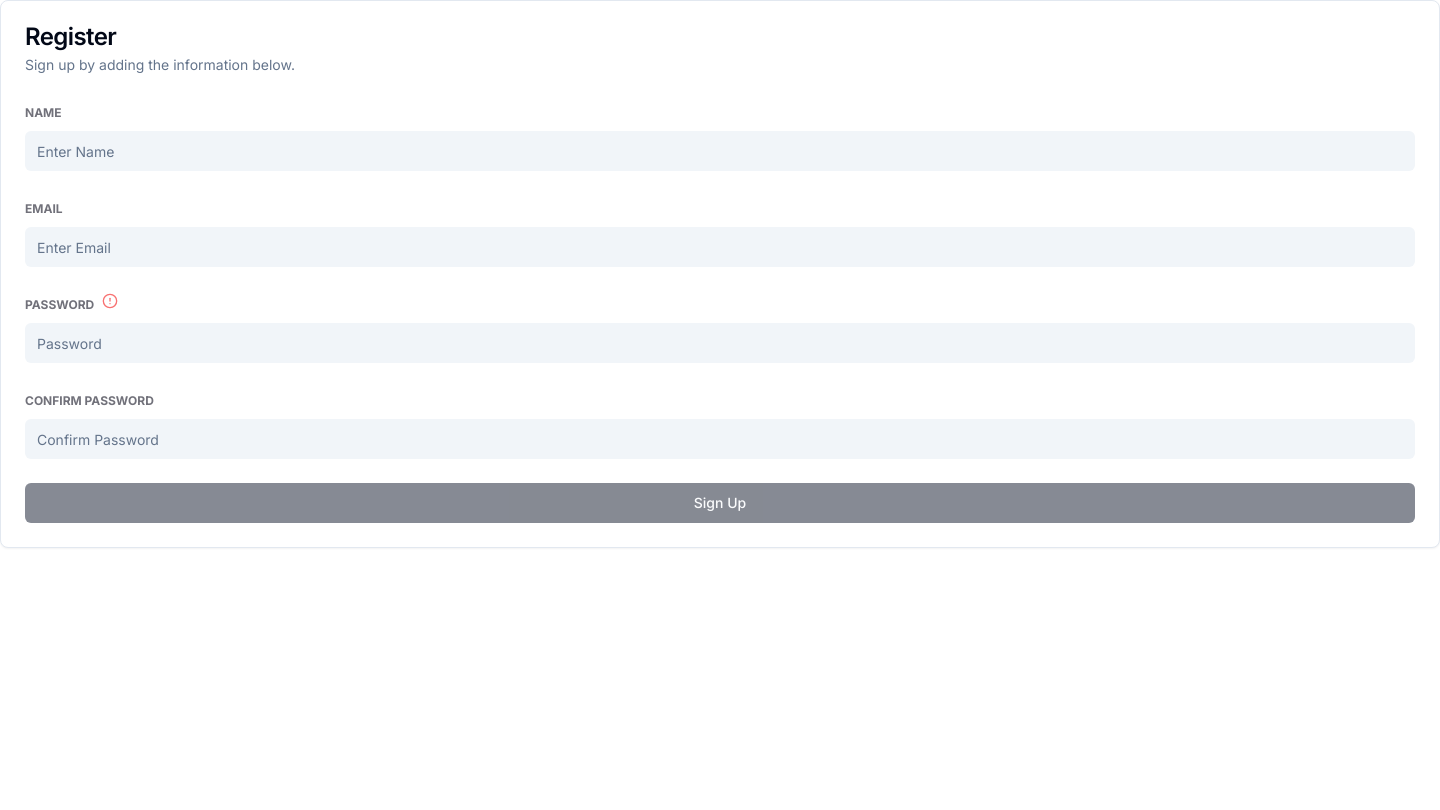
it: <RegisterForm /> › with invalid inputs › when "Confirm password" does not match "Password" › should display an error message
Type "fake@email" into the field labelled "Email" at coordinates (720, 247), box [25, 227, 1415, 267]
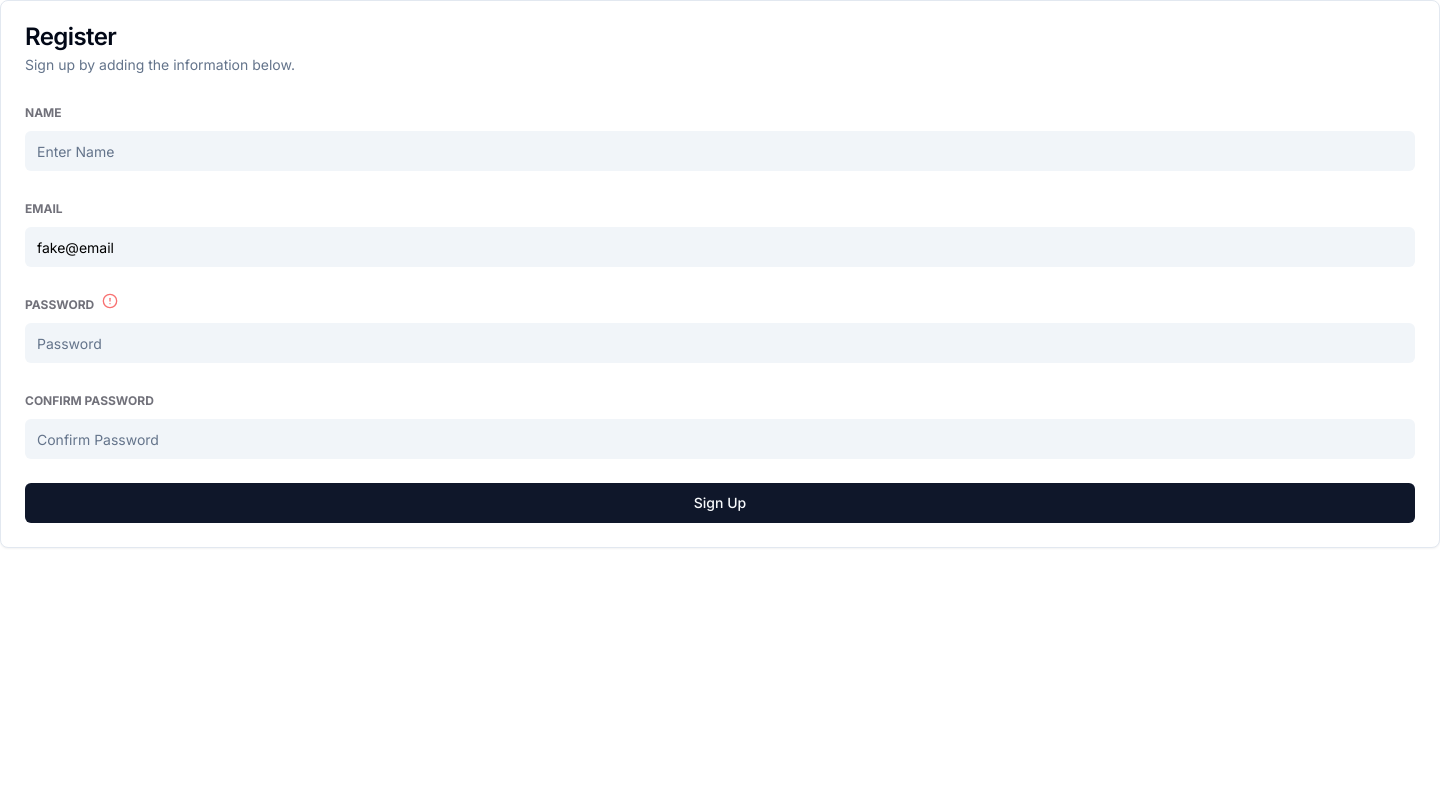
Type "abc123" into the password field with placeholder "Confirm Password" at coordinates (720, 439), box [25, 419, 1415, 459]
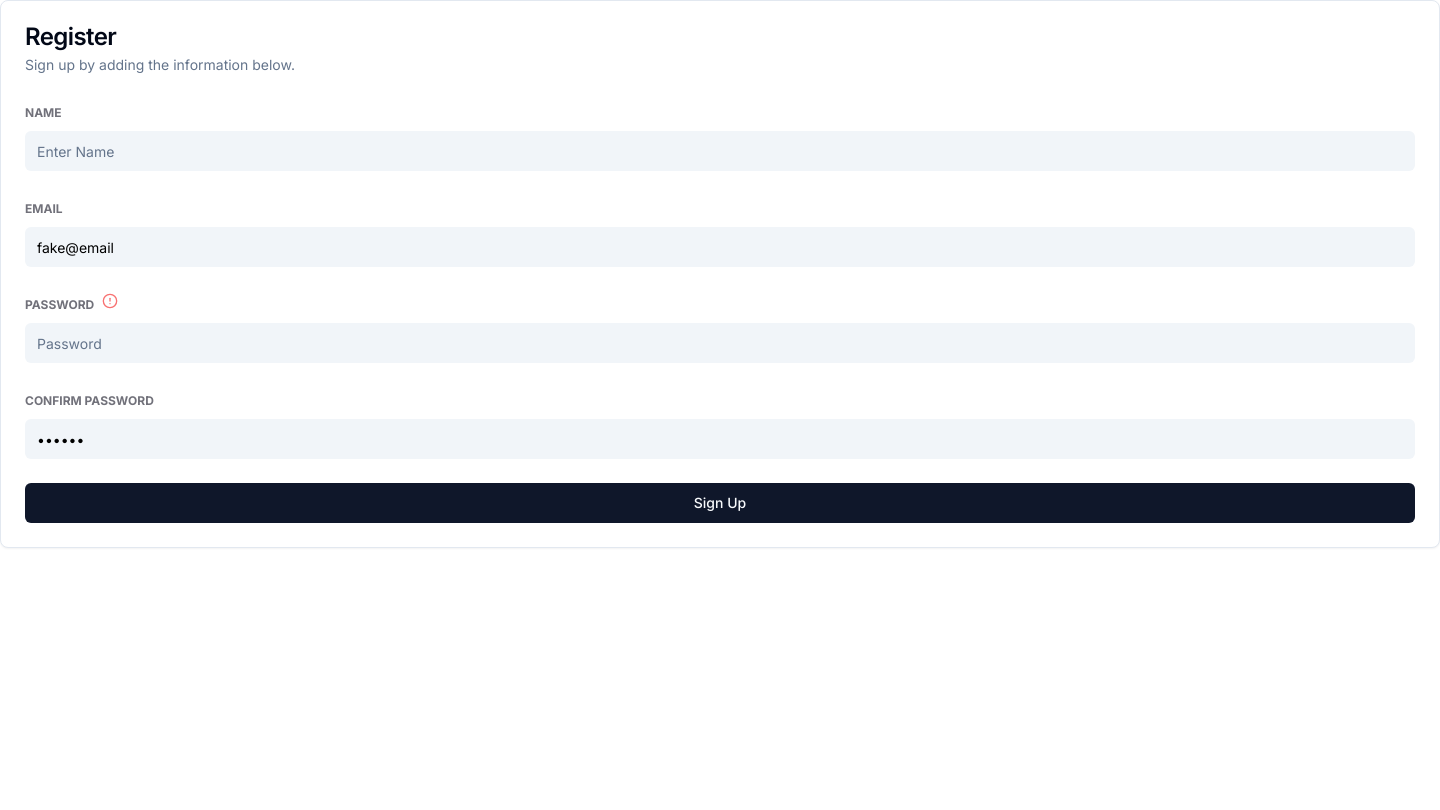
Click the button "Sign Up" at coordinates (720, 503), box [25, 483, 1415, 523]
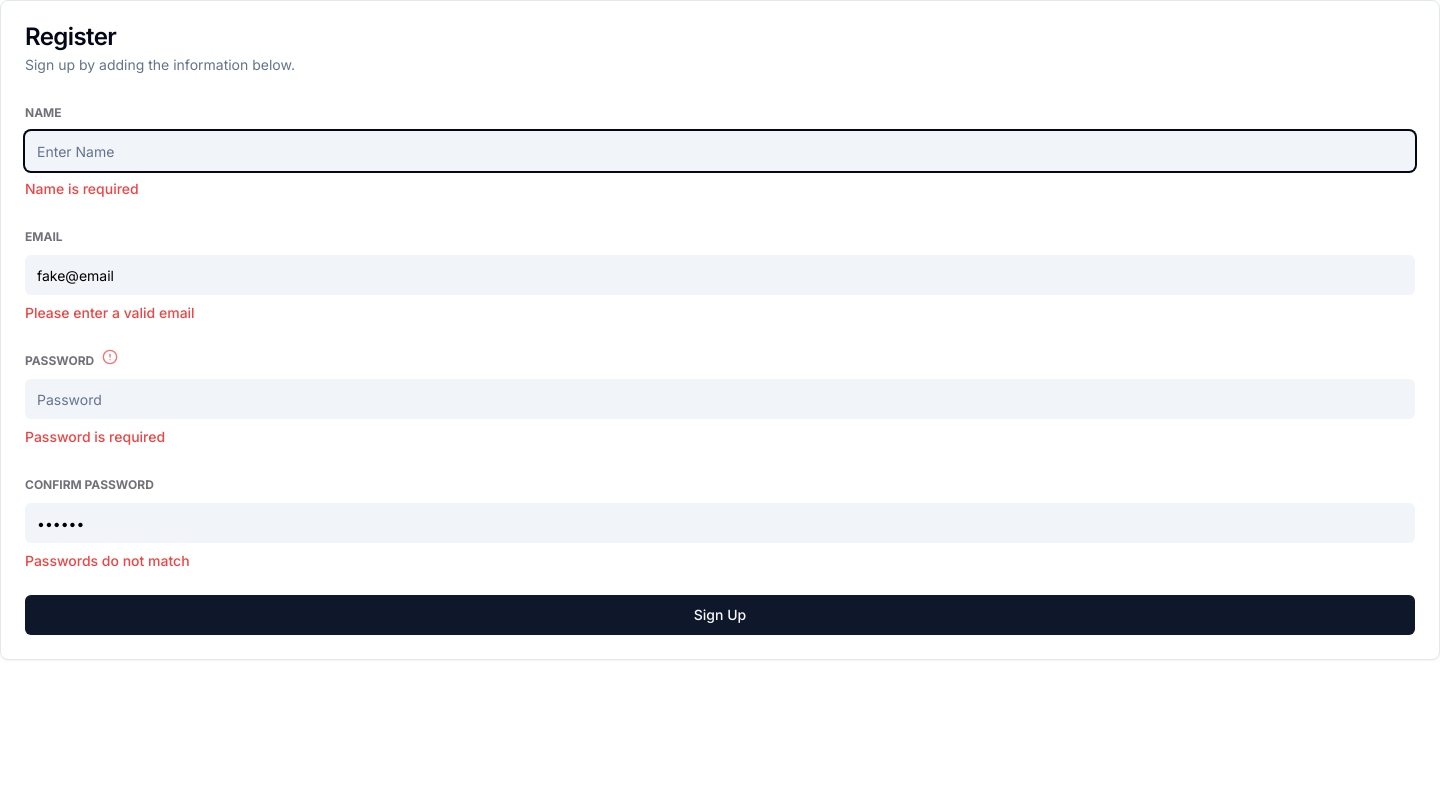
Now the text "Passwords do not match" is shown, box [25, 552, 190, 569]
